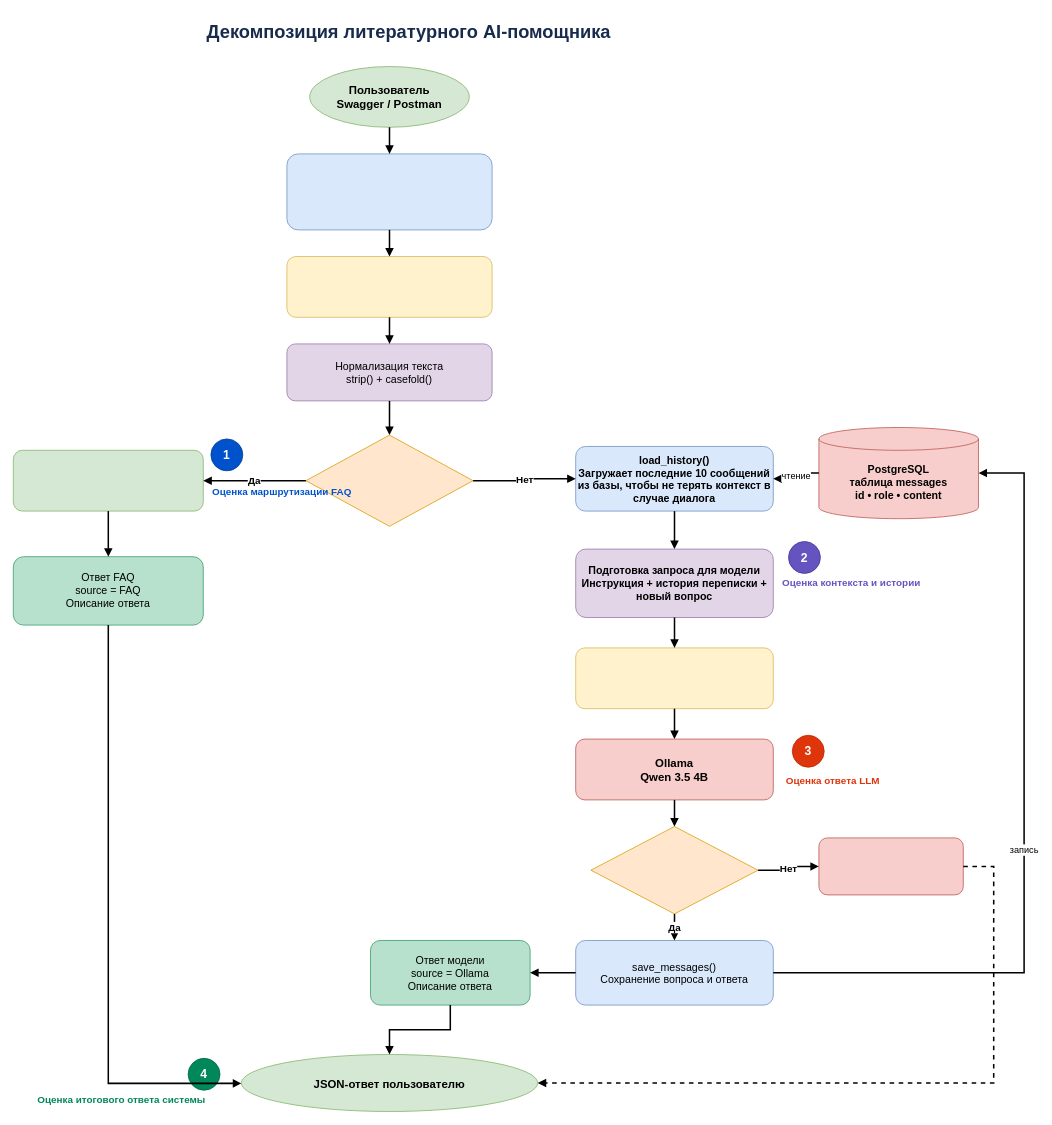
Some shapes in this 1052 by 1125 pixel diagram are drawn without their labels. Here are the shapes that lost their labels. From the top down, the centre of each, then its label:
[389,191]: POST /dialog Body: Расскажи мне про писателя Пушкин Header: temperature
[389,286]: FastAPI + Pydantic Проверка входных данных
[108,480]: FAQ_ANSWERS Поиск готового ответа
[389,480]: Запрос подходит под FAQ?
[674,678]: OpenAI Python SDK локальный запрос
[674,870]: Ответ получен и не пустой?
[890,866]: Ошибка 502 Пустой ответ
